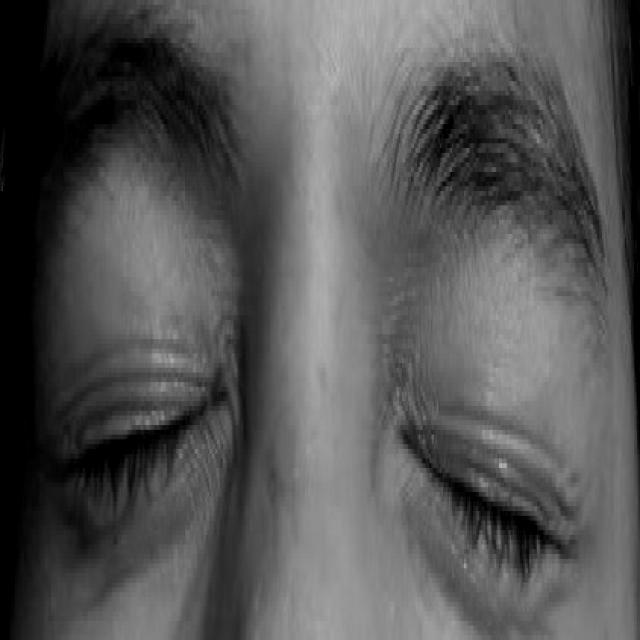real: (32, 74, 602, 614)
